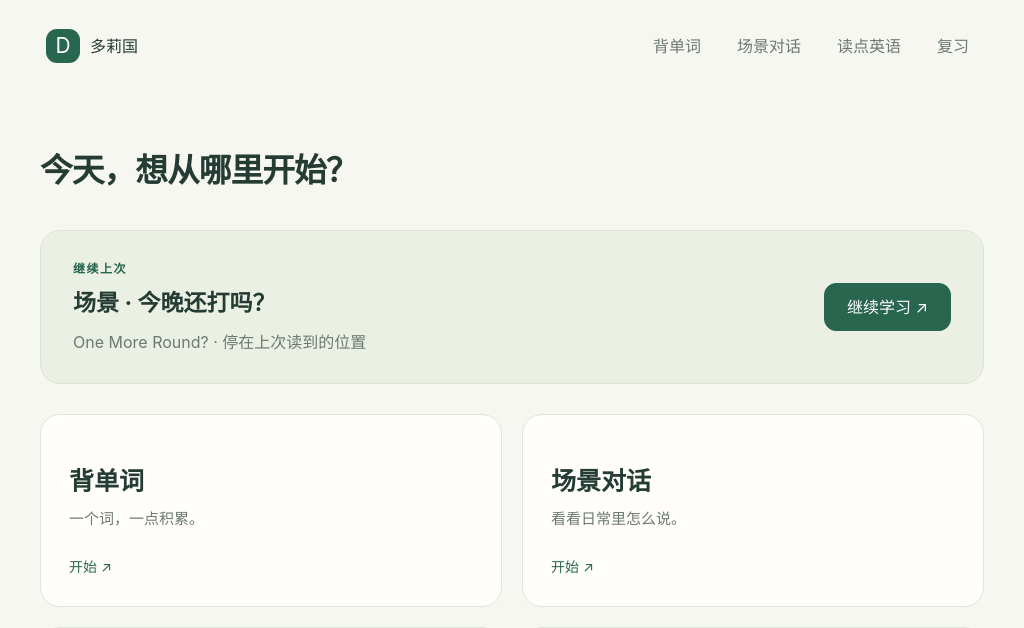
Test: resumes the last scene document from home instead of stopping at the list
The image size is (1024, 628).
Click the button "继续学习 ↗": point(888, 307) [824,283,951,332]
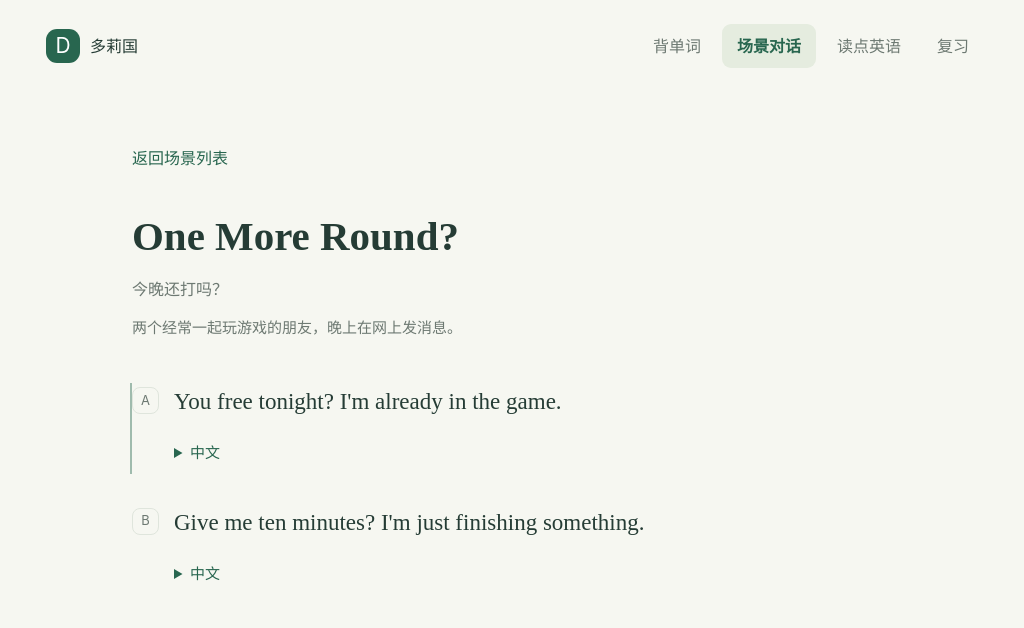
Result: the heading "One More Round?" is shown at [132,213,459,259]
